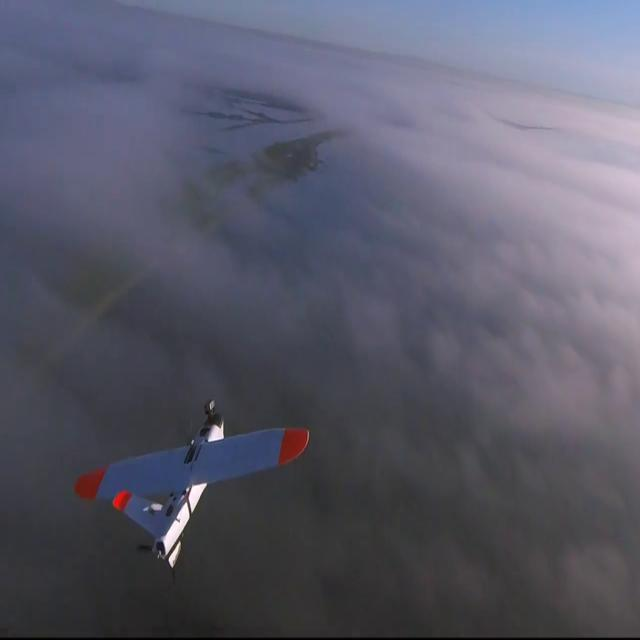iha: (74, 398, 310, 579)
